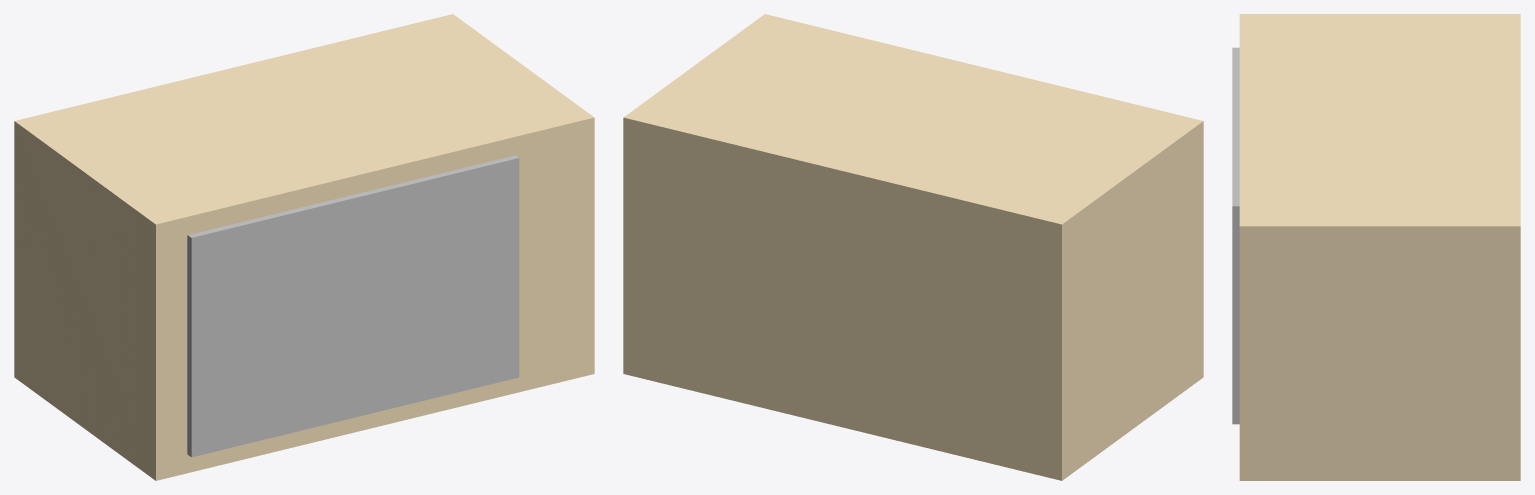
File: Microwave.fbx
The picture shows the model from 3 angles, left to right: view 1: azimuth 30°, elevation 25°; view 2: azimuth 150°, elevation 25°; view 3: azimuth 270°, elevation 25°; orthographic projection.
Parts seen in each view (by area): view 1: Microwave, MicrowaveDoor; view 2: Microwave; view 3: Microwave, MicrowaveDoor.
Part boxes in pixels (<box>): Microwave: <box>14,14,594,480</box>; MicrowaveDoor: <box>187,155,519,457</box>; Microwave: <box>623,14,1203,480</box>; Microwave: <box>1239,14,1520,480</box>; MicrowaveDoor: <box>1232,47,1239,424</box>.
Size of the model in its own units: 33.38 by 18.65 by 19.13.
